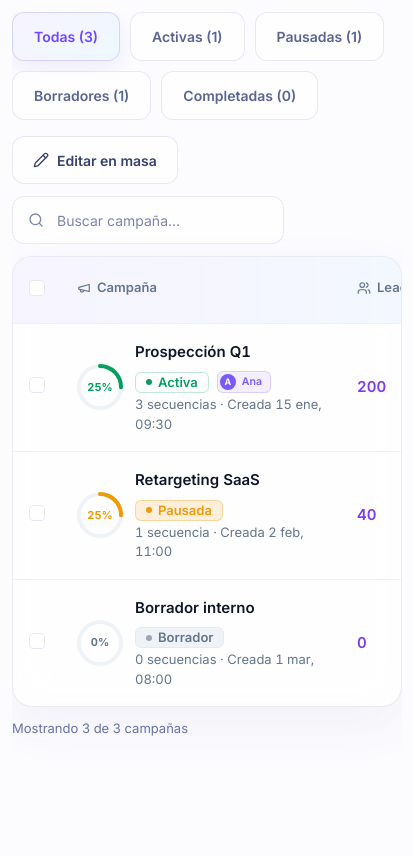
Test: CampaignsTable › filtra por pestaña sin cambiar los contadores
Click the tab "Pausadas (1)".
click(319, 36)  # box [254,12,384,61]
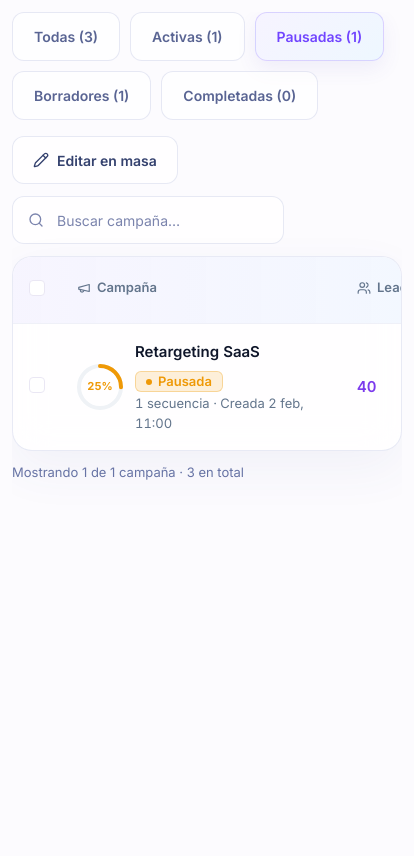
Expected: the text "Retargeting SaaS" is shown, [135,340,260,363]
Now the text "Prospección Q1" is gone
